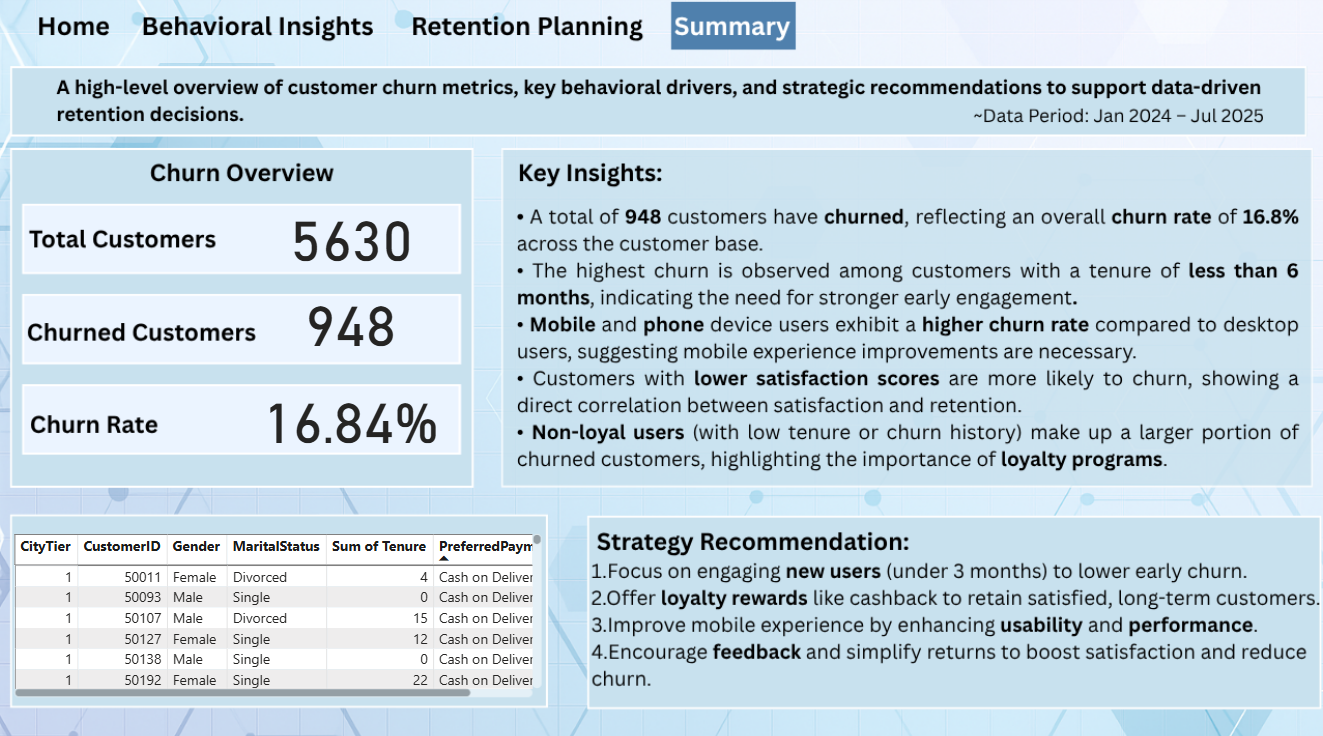

This screenshot's page, from the dashboard's own definition file:
{"tool":"powerbi","page":{"name":"Summary","canvas":[1280,720],"ordinal":3},"visuals":[{"type":"actionButton","box":[22,12.3,100.2,39.8],"z":0},{"type":"actionButton","box":[131.5,12.1,236.5,39.8],"z":1000},{"type":"actionButton","box":[393.8,12.5,232.5,40],"z":2000},{"type":"card","fields":{"Values":["CountNonNull(cleaned_churn_data.CustomerID)"]},"box":[222.5,198.8,235,66.2],"z":3000},{"type":"card","fields":{"Values":["cleaned_churn_data.Total Churns"]},"box":[222.5,281.2,235,66.2],"z":4000},{"type":"card","fields":{"Values":["cleaned_churn_data.ChurnRate"]},"box":[222.5,373.8,235,66.2],"z":5000},{"type":"tableEx","fields":{"Values":["cleaned_churn_data.CityTier","cleaned_churn_data.CustomerID","cleaned_churn_data.Gender","cleaned_churn_data.MaritalStatus","Sum(cleaned_churn_data.Tenure)","cleaned_churn_data.PreferredPaymentMode"]},"box":[8.8,516.2,520,167.5],"z":6000}]}

Visuals, with their boxes in screenshot pixels (x1, y1, x2, y2), scaled from the page's 1280x720 canvas onto the 1323x736 screenshot:
actionButton: bbox(23, 13, 126, 53)
actionButton: bbox(136, 12, 380, 53)
actionButton: bbox(407, 13, 647, 54)
card - CountNonNull(cleaned_churn_data.CustomerID): bbox(230, 203, 473, 271)
card - cleaned_churn_data.Total Churns: bbox(230, 287, 473, 355)
card - cleaned_churn_data.ChurnRate: bbox(230, 382, 473, 450)
tableEx - cleaned_churn_data.CityTier x cleaned_churn_data.CustomerID: bbox(9, 528, 547, 699)
